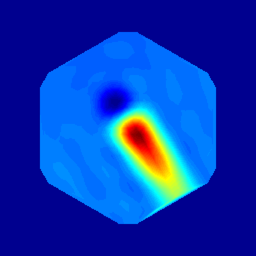ship: (104, 91, 135, 124)
wave: (116, 111, 169, 174)
